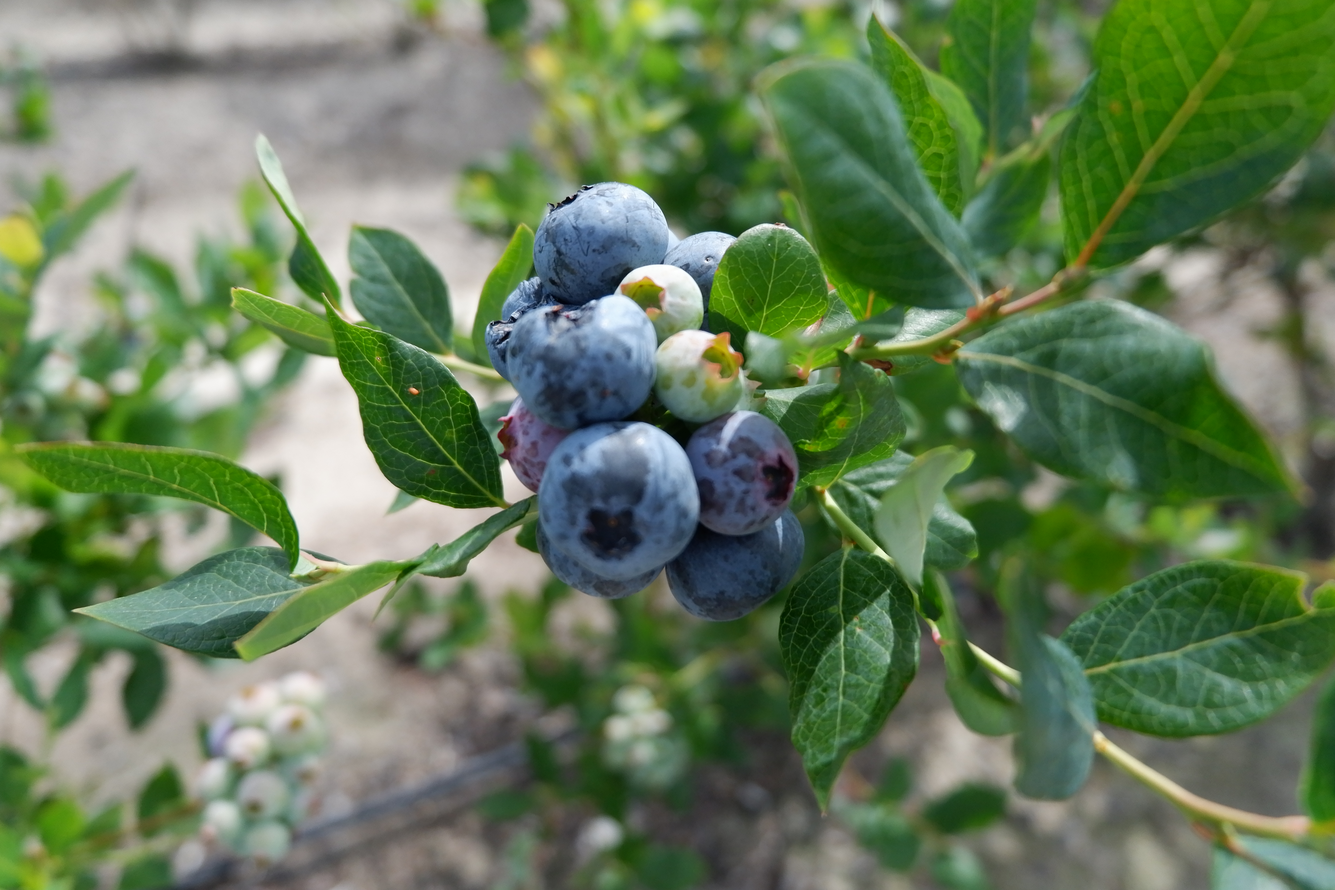Immature: (656, 332, 740, 421), (505, 396, 572, 492), (621, 267, 702, 341)
Mature: (542, 425, 697, 580), (503, 296, 655, 425), (535, 184, 667, 300), (666, 513, 801, 619), (688, 412, 797, 531), (535, 526, 666, 600), (488, 281, 555, 377), (668, 232, 734, 306)
